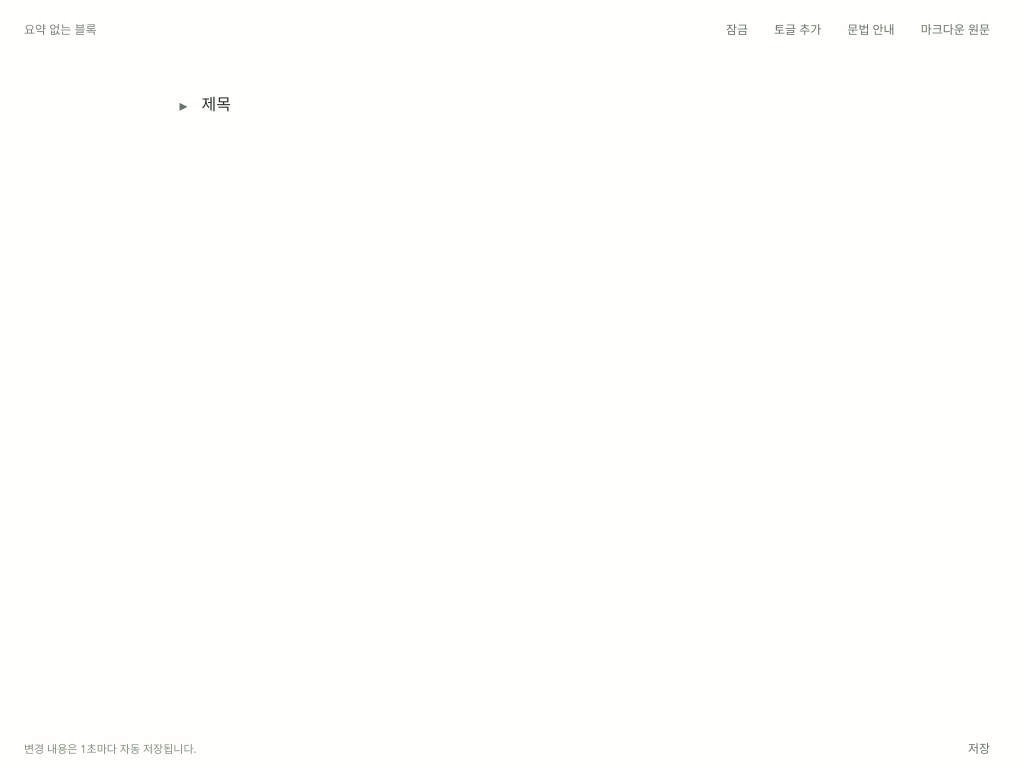
Test: opens and closes a toggle without saving, then preserves formatted edits on reload
This screenshot has width=1024, height=768.
Expected: the text box labelled "제목" is shown, [201,93,231,115]
Click the button named "토글 펼치기".
click(183, 105)  # box [173,90,193,120]
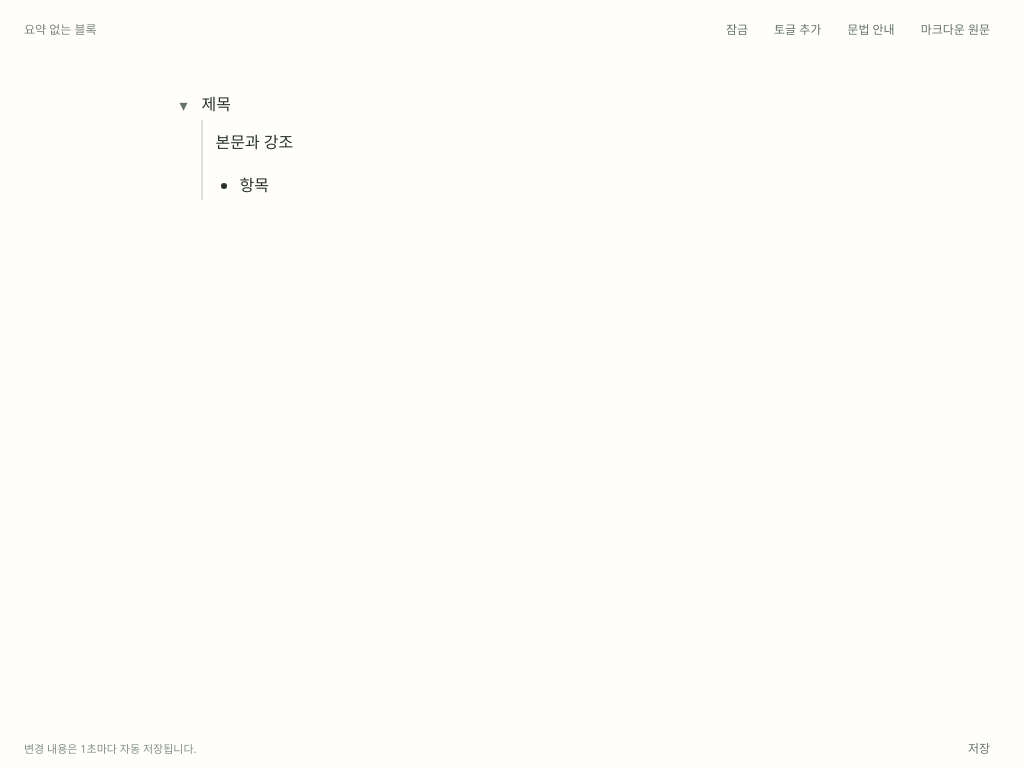
Expected: the button named "토글 펼치기" is expanded
Click the button named "토글 펼치기".
click(183, 105)  # box [173,90,193,120]
Wait 1000 ms
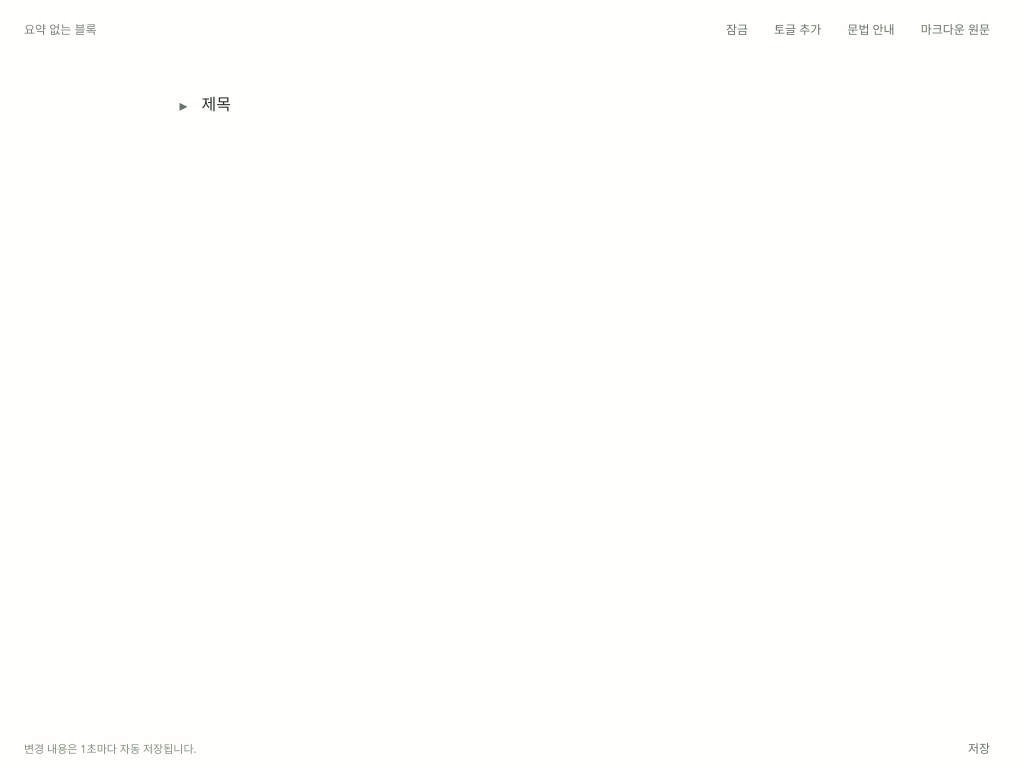
Click the button "마크다운 원문".
click(955, 29)  # box [911,14,1000,44]
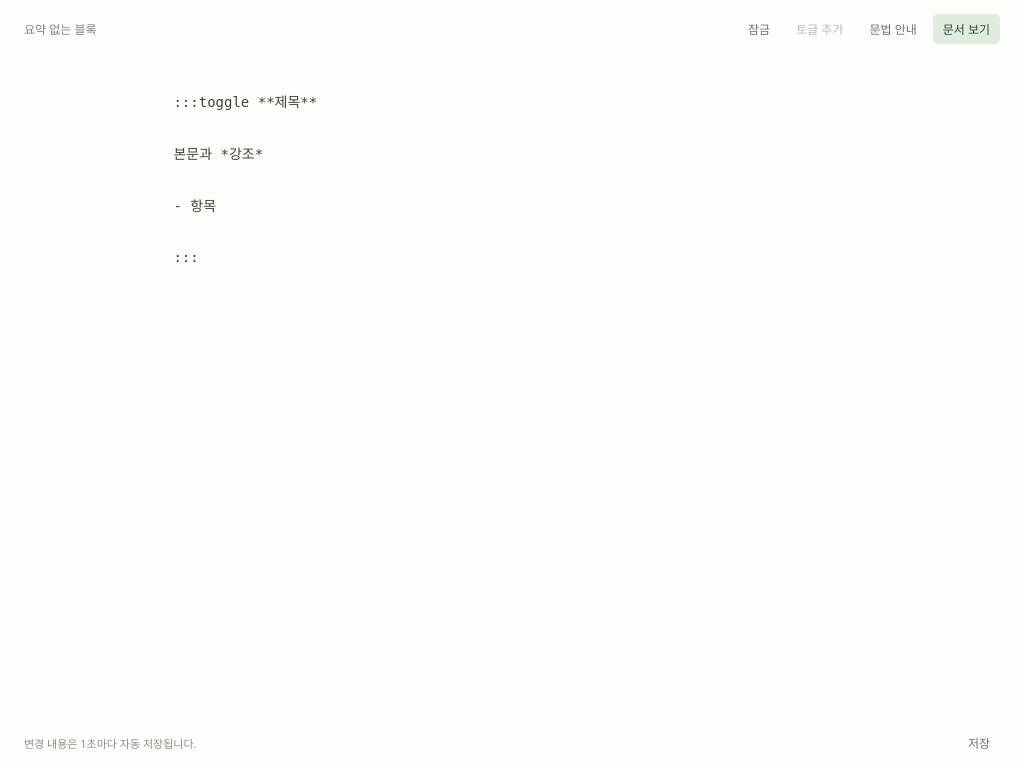
Click the button "문서 보기".
click(966, 29)  # box [933,14,1000,44]
Wait 1000 ms
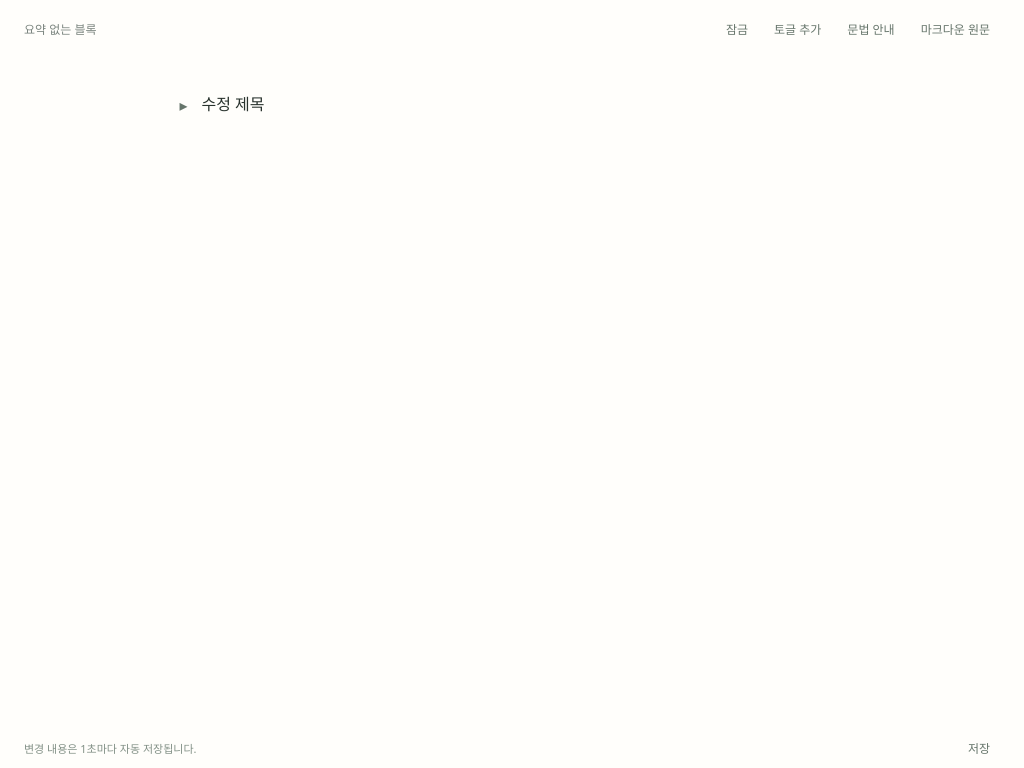
Expected: the heading "수정 제목" is shown, [201,93,264,115]
